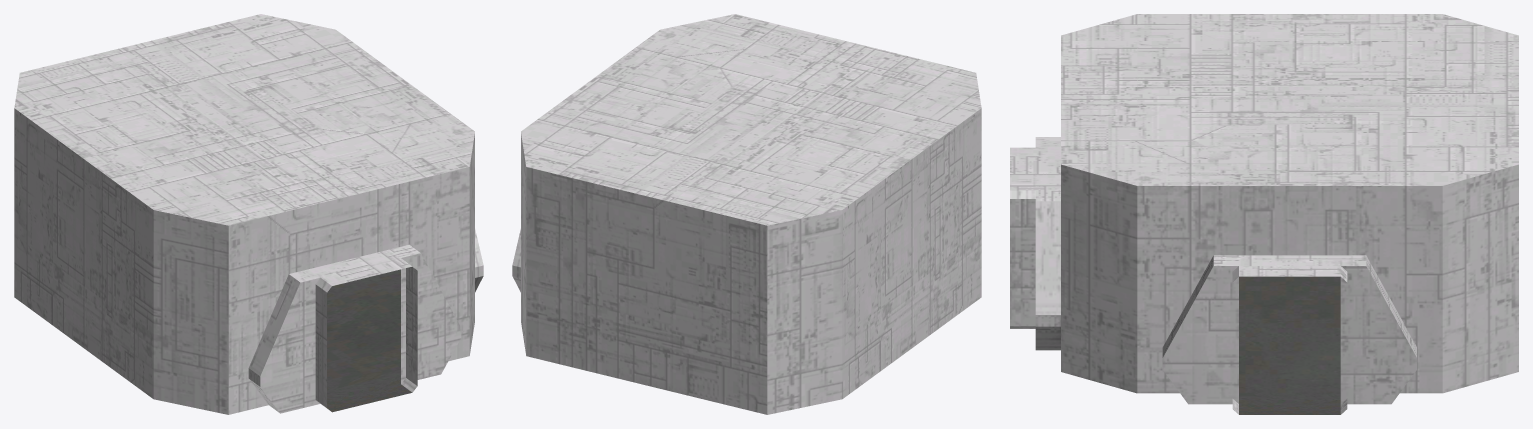
The model's file is thm_spc_star_destroyer_s01_r24_powercrtl02_mesh.fbx.
3 renders of one model, left to right at view 1: azimuth 30°, elevation 25°; view 2: azimuth 150°, elevation 25°; view 3: azimuth 270°, elevation 25°, orthographic. The views are drawn at different scales.
Visible parts, largest first — view 1: mesh_node; view 2: mesh_node; view 3: mesh_node.
Part boxes in pixels (bbox=[...]): mesh_node: bbox=[14, 14, 483, 414]; mesh_node: bbox=[512, 14, 981, 414]; mesh_node: bbox=[1010, 14, 1518, 414].
Bounding box in the file's own units: 9 × 4.5 × 10.
Materials: 2 (2 with a texture image).
